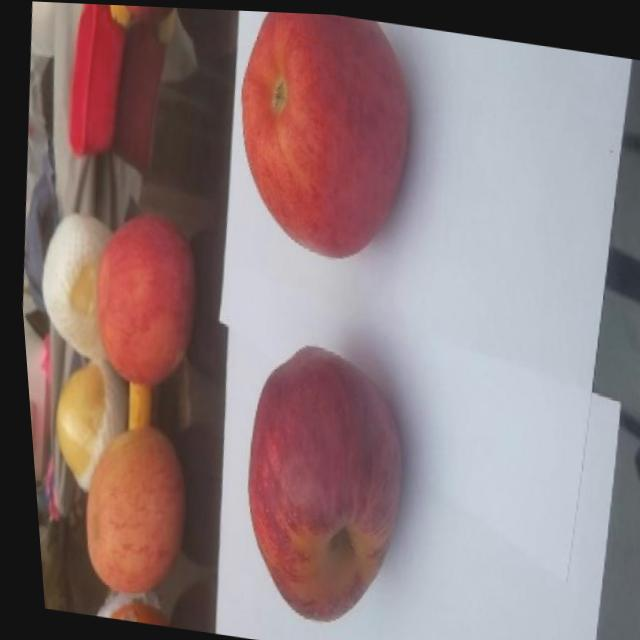Apple: (213, 325, 423, 637), (215, 8, 431, 270), (71, 203, 210, 393), (64, 413, 194, 603)
